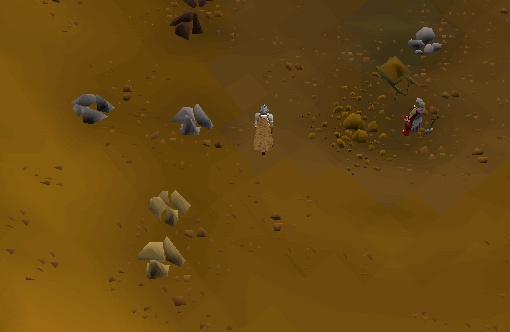clay: (141, 182, 211, 229), (126, 234, 196, 281)
iron: (163, 7, 217, 46)
tin: (165, 97, 226, 142), (58, 86, 119, 131)
